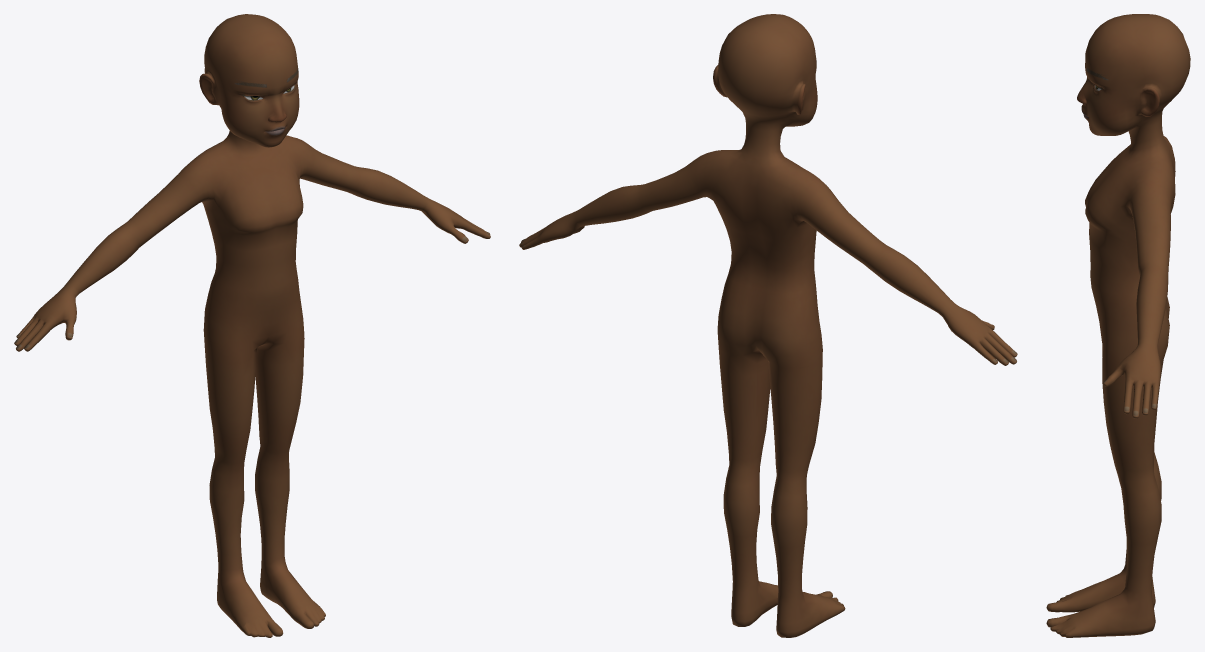
Rendered from frame_0096.glb.
3 views of the same model, side by side, from view 1: azimuth 30°, elevation 25°; view 2: azimuth 150°, elevation 25°; view 3: azimuth 270°, elevation 25° (orthographic). The views are drawn at different scales.
Visible parts, largest first — view 1: frame_0096_head_geo; view 2: frame_0096_head_geo; view 3: frame_0096_head_geo.
Part boxes in pixels (x1=…): frame_0096_head_geo: x1=14, y1=14, x2=490, y2=637; frame_0096_head_geo: x1=519, y1=14, x2=1017, y2=637; frame_0096_head_geo: x1=1046, y1=14, x2=1190, y2=637.
Bounding box in the file's own units: 1.28 × 1.5 × 0.3253.
3 materials, 3 textured.
